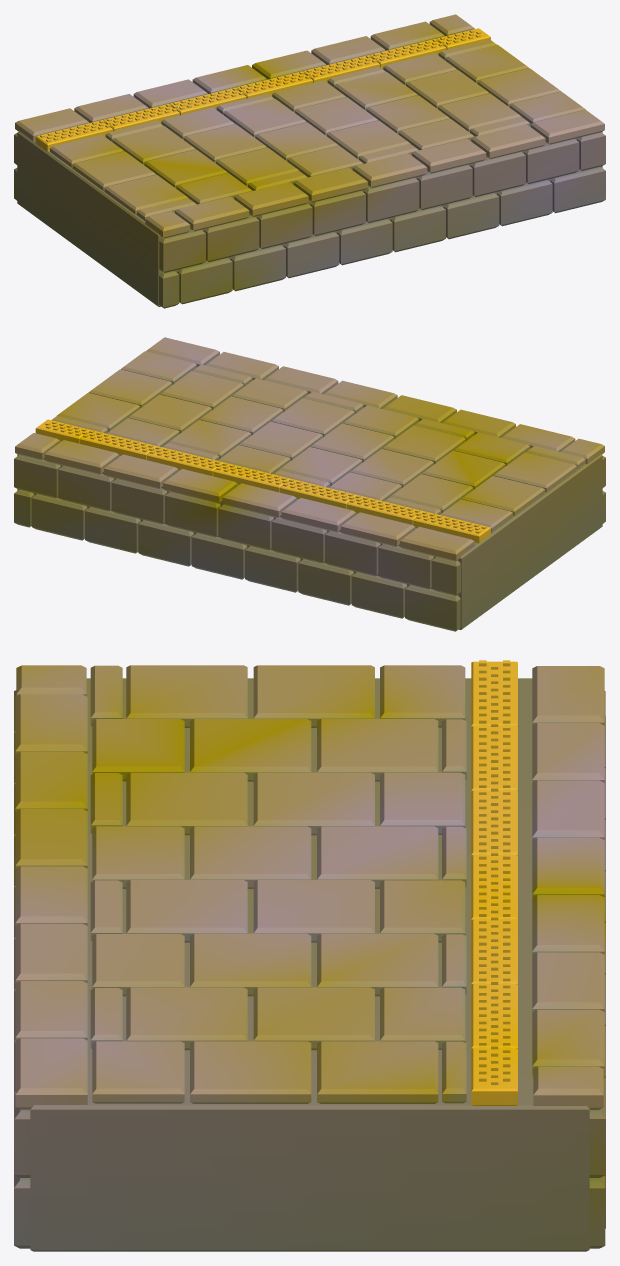
Rendered from Platform_Straight_6m.glb.
3 views of the same model, one above another, from view 1: azimuth 30°, elevation 25°; view 2: azimuth 150°, elevation 25°; view 3: azimuth 270°, elevation 25° (orthographic). The views are drawn at different scales.
Parts seen in each view (by area): view 1: Platform_Straight_6m; view 2: Platform_Straight_6m; view 3: Platform_Straight_6m.
Part boxes in pixels (x1,y1,x2,y2): Platform_Straight_6m: (14,14,605,308); Platform_Straight_6m: (14,337,605,631); Platform_Straight_6m: (14,660,605,1251).
Size of the model in its own units: 6 by 1.08 by 3.49.
